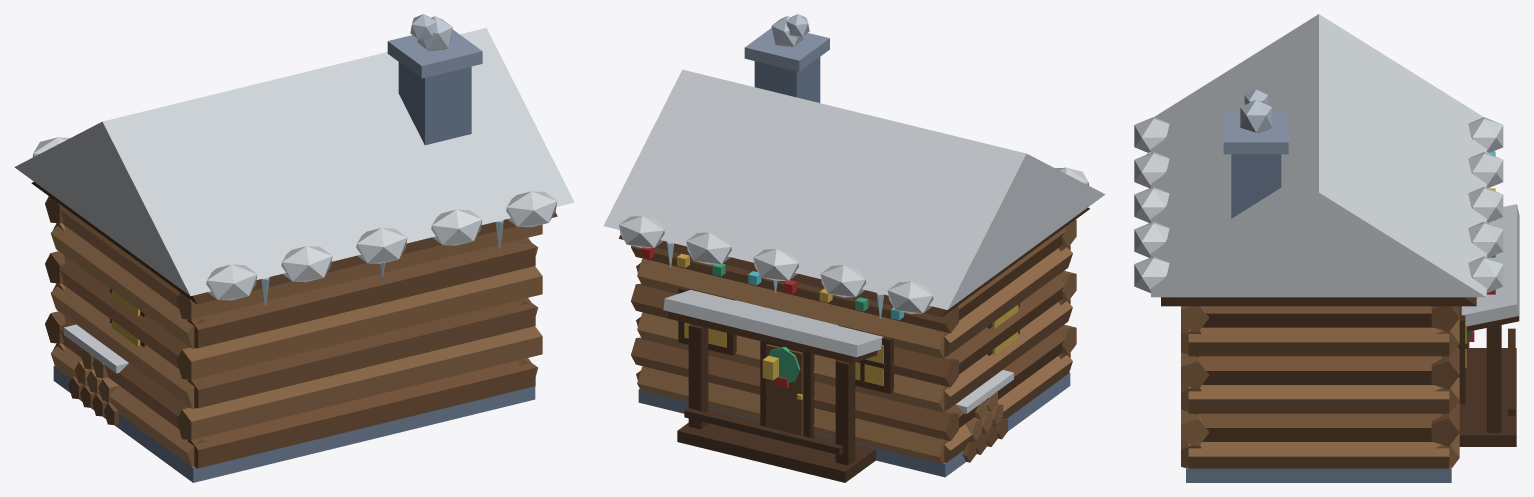
Rendered from Decor_IcePalace_Cabin.fbx.
The picture shows the model from 3 angles, left to right: view 1: azimuth 30°, elevation 25°; view 2: azimuth 150°, elevation 25°; view 3: azimuth 270°, elevation 25°; orthographic projection. The views are drawn at different scales.
Parts seen in each view (by area): view 1: Cabin_Body; view 2: Cabin_Body; view 3: Cabin_Body.
Boxes of the visible parts, x1,y1,x2,y2 form: Cabin_Body: [14, 14, 574, 482]; Cabin_Body: [603, 14, 1105, 482]; Cabin_Body: [1134, 14, 1519, 482].
Size of the model in its own units: 16 by 15 by 14.6.
